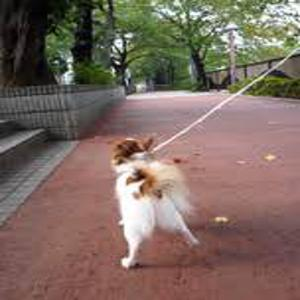yell: (110, 133, 200, 267)
